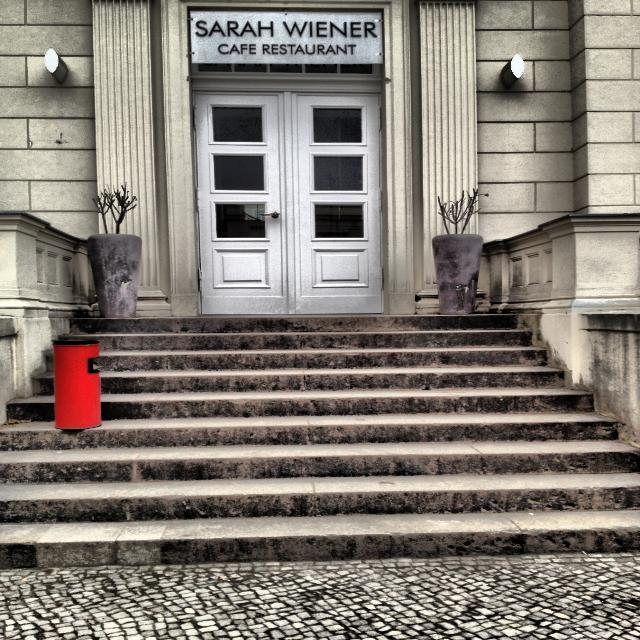escada: (0, 319, 640, 568)
